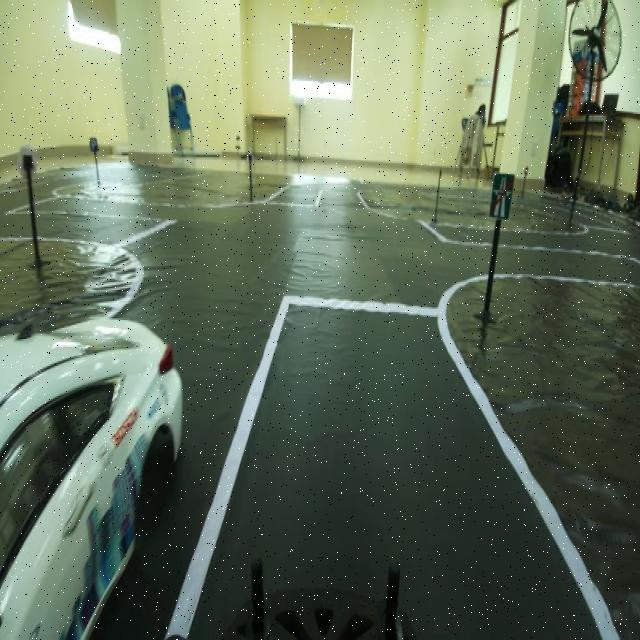car: (1, 278, 187, 633)
highway_exit: (488, 162, 517, 242)
